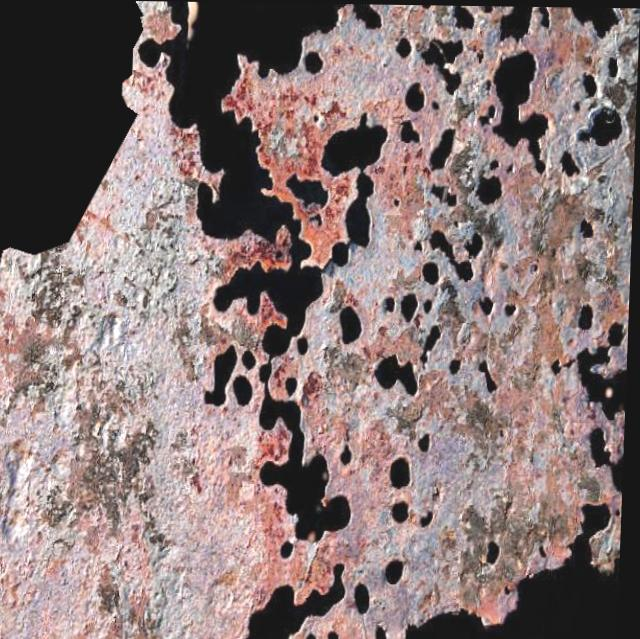Pitting Corrosion: (0, 1, 640, 639)
